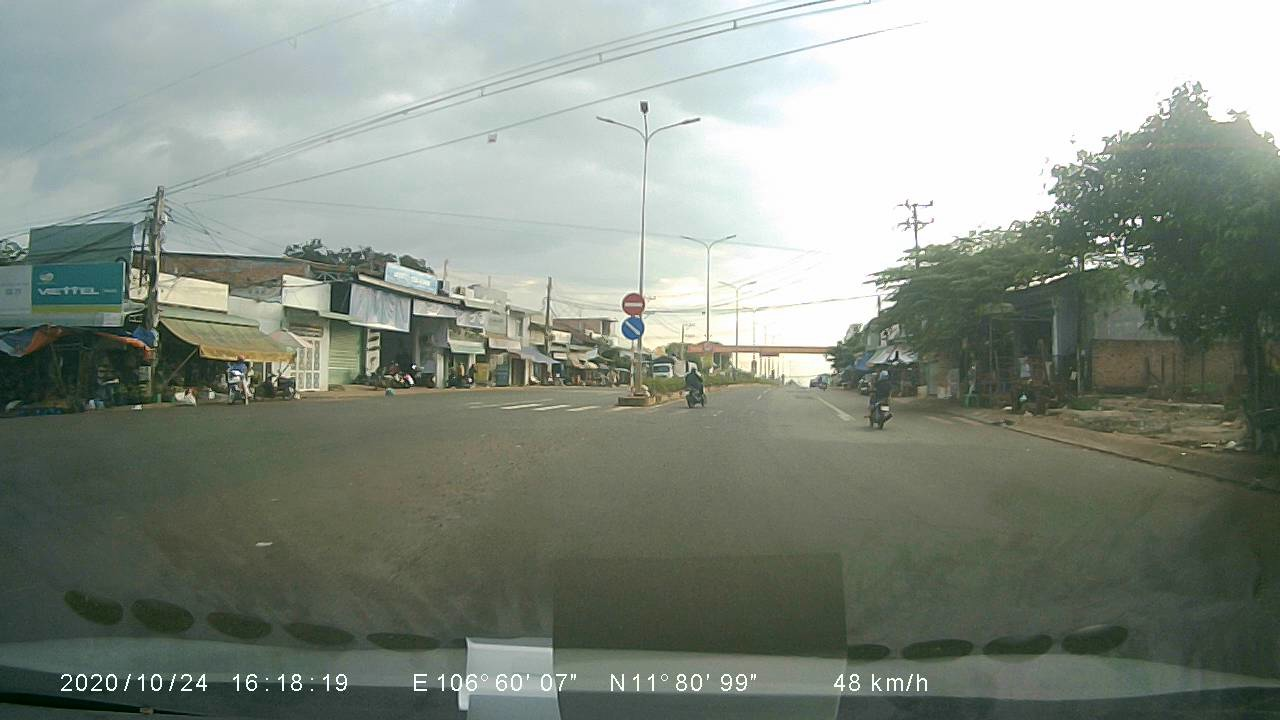Cam di nguoc chieu: (621, 290, 645, 316)
Huong di phai re phai: (620, 317, 646, 344)
